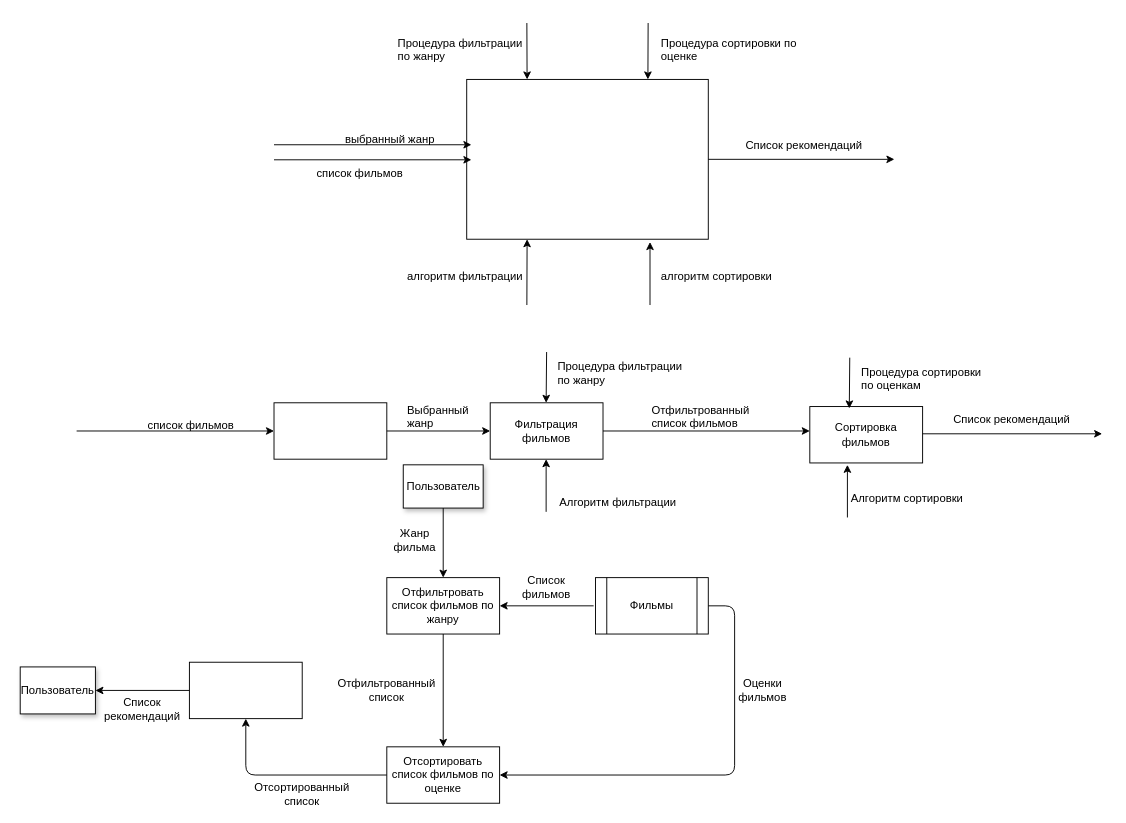
The diagram is 1126 pixels wide and 823 high, and some of its shapes have lost their labels. The shapes that lost their labels are listed below. From the top down, each one's centre as x and y in pixels, then its label:
At pixel 587 158: "Отсортировать список фильмов".
At pixel 330 430: "Выбор жанра".
At pixel 245 690: "Отобразить отсортированный список".
